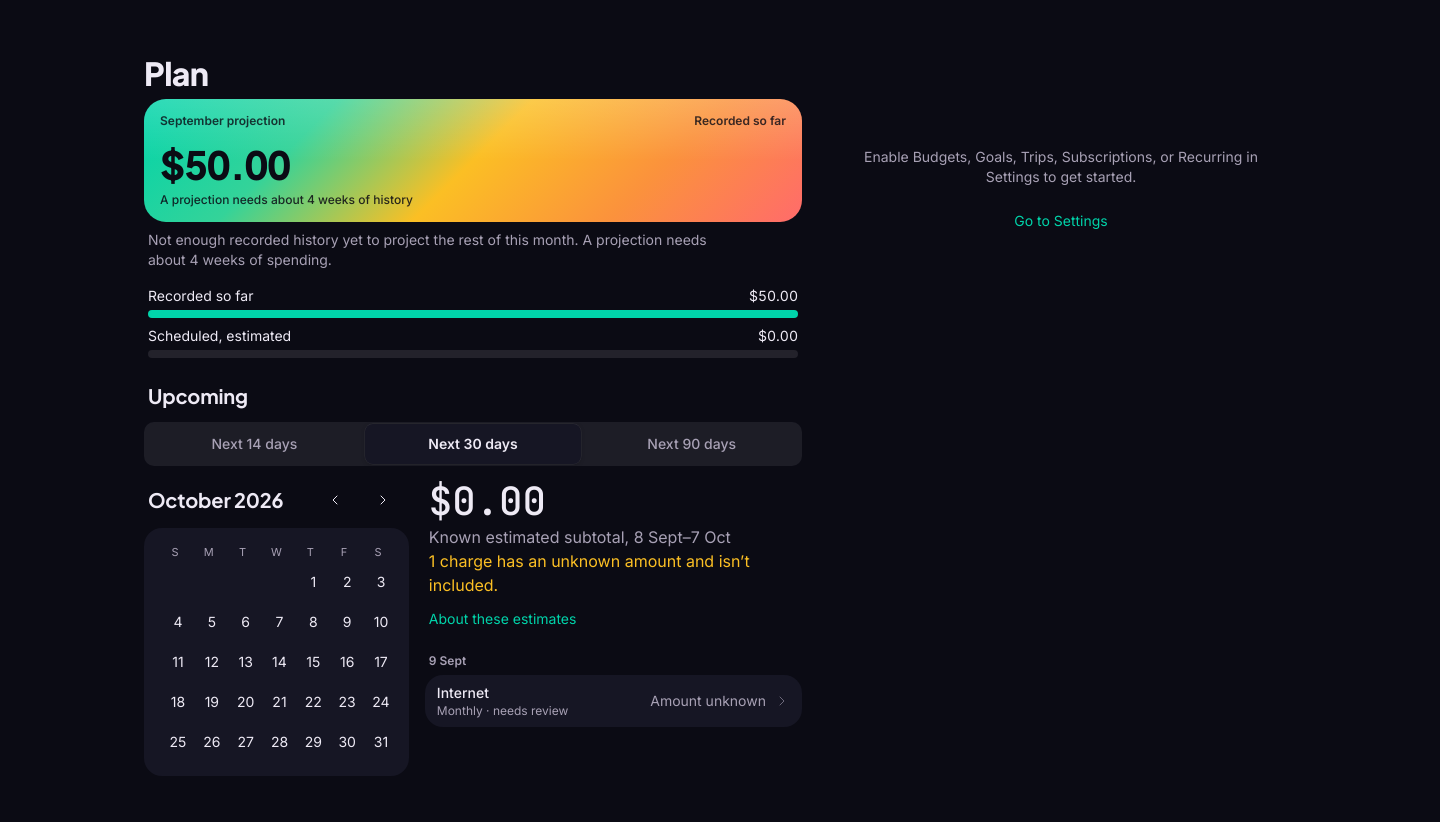
Test: shows uncertain charges and links directly to schedule controls
Expected: the text "Amount unknown" is shown, [650, 691, 766, 711]
Expected: the text "Known estimated subtotal, 8 Sept–7 Oct" is shown, [429, 527, 731, 547]
Click the button "Internet Monthly · needs review Amount unknown" at (463, 692), box [425, 675, 802, 727]
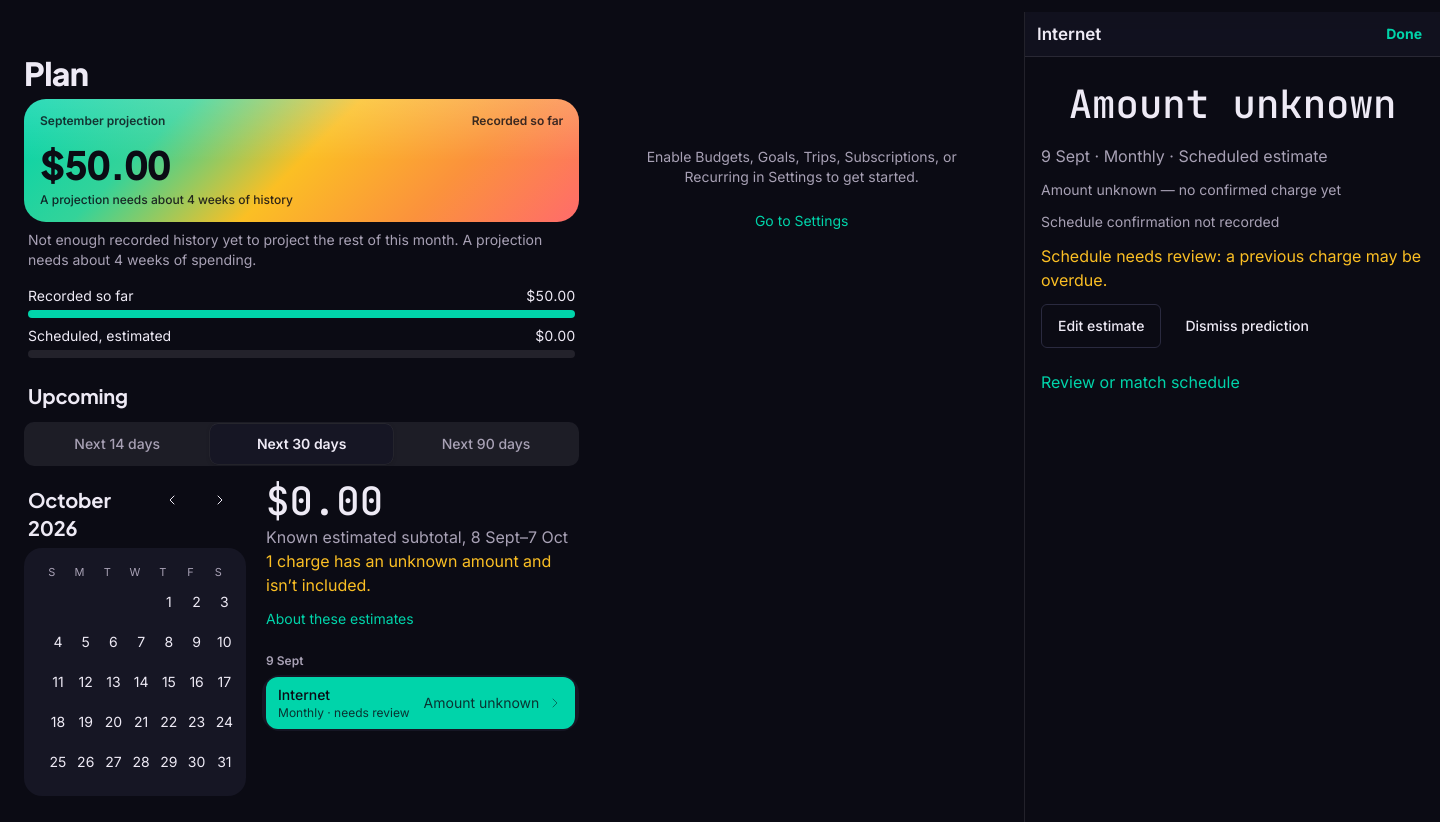
Expected: the text "Schedule needs review: a previous charge may be overdue." is shown, [1041, 244, 1424, 292]
